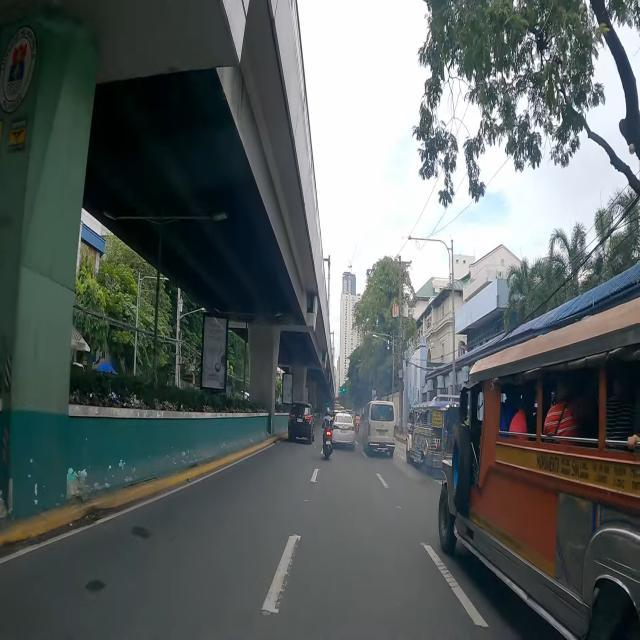car: (364, 401, 396, 456), (288, 403, 314, 444), (332, 410, 354, 448)
jeepney: (438, 294, 640, 640), (406, 395, 460, 480)
motorcycle: (322, 407, 333, 459), (354, 413, 360, 433)
